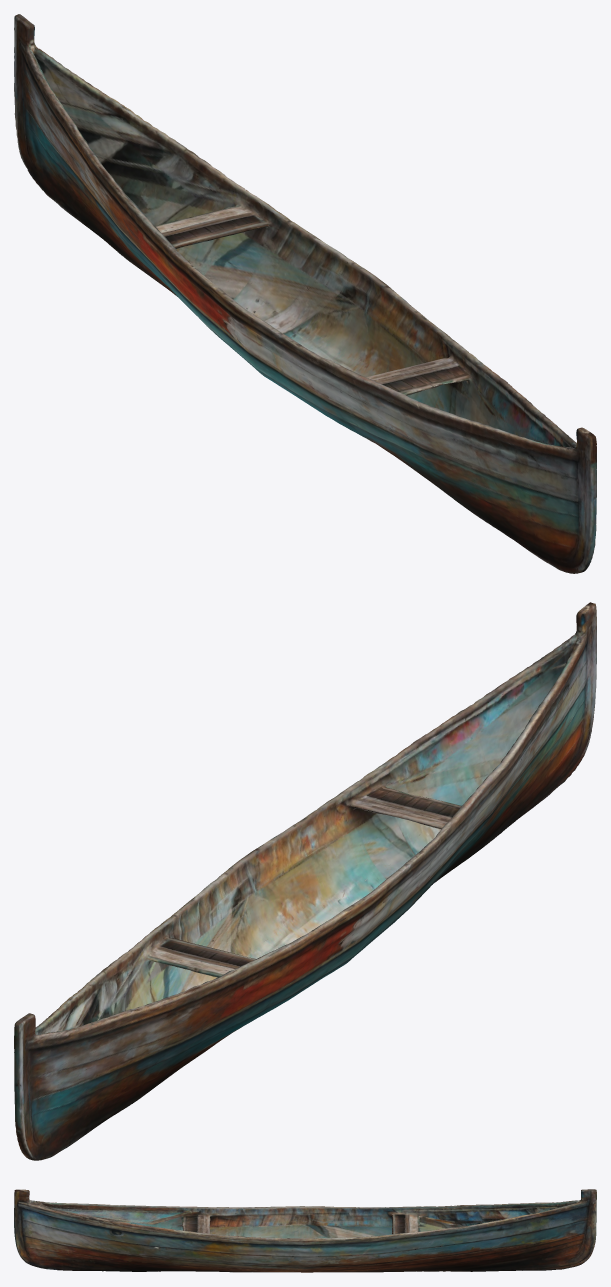
Rendered from kayak.glb.
3 renders of one model, top to bottom at view 1: azimuth 30°, elevation 25°; view 2: azimuth 150°, elevation 25°; view 3: azimuth 270°, elevation 25°, orthographic. The views are drawn at different scales.
Bounding box in the file's own units: 0.275 × 0.3096 × 2.
1 material, 1 textured.
